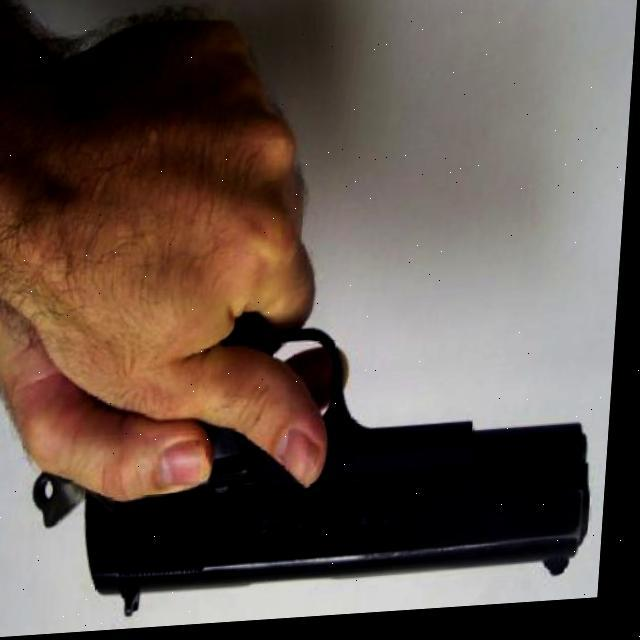gun: (6, 288, 611, 628)
